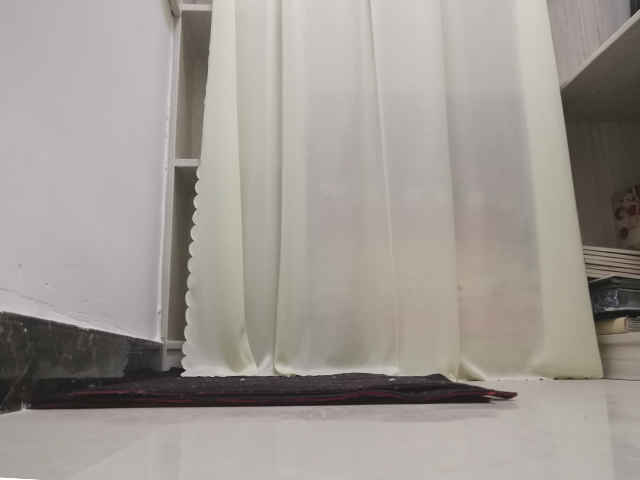carpet: (23, 373, 519, 411)
curtain: (179, 1, 608, 384)
